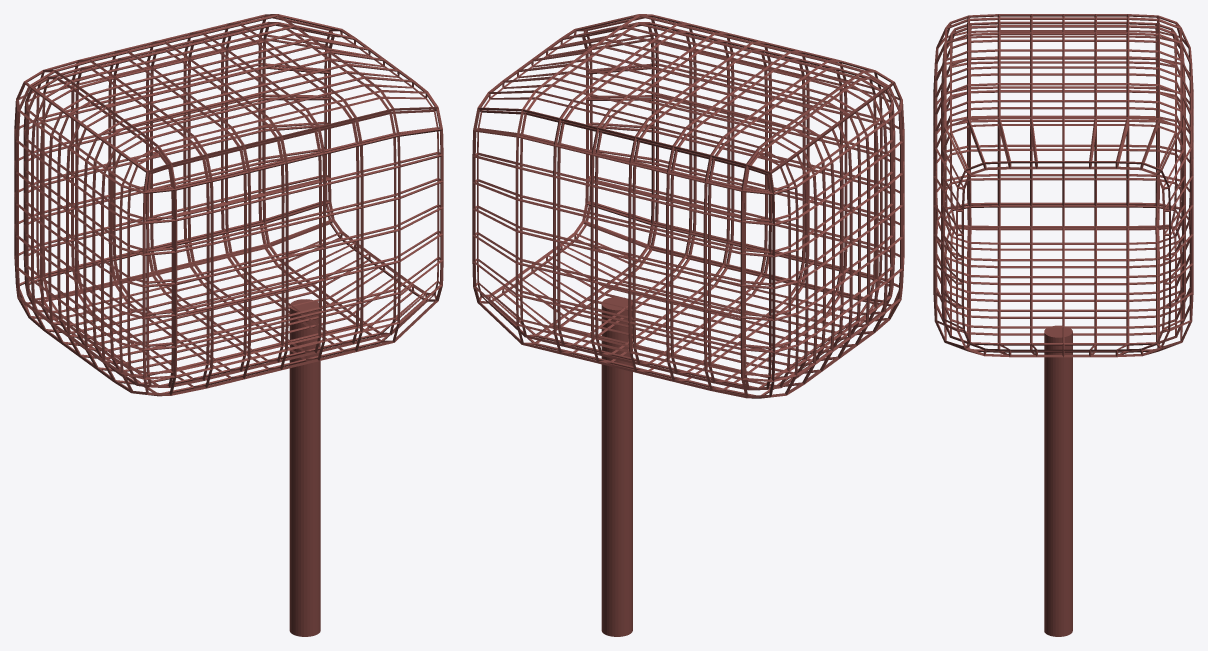
Rendered from RedFixed.fbx.
The picture shows the model from 3 angles, left to right: view 1: azimuth 30°, elevation 25°; view 2: azimuth 150°, elevation 25°; view 3: azimuth 270°, elevation 25°; orthographic projection. The views are drawn at different scales.
Visible parts, largest first — view 1: red; view 2: red; view 3: red.
Boxes of the visible parts, <box> form: red: <box>14,14,443,636</box>; red: <box>472,14,904,636</box>; red: <box>933,14,1193,636</box>.
Bounding box in the file's own units: 0.7927 × 1.35 × 0.607.
